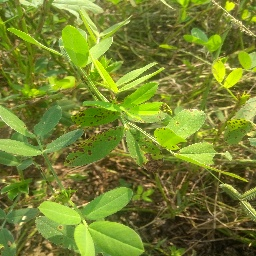GroundNut_Leaf: (64, 124, 122, 168), (89, 223, 144, 256), (84, 187, 136, 220), (157, 108, 207, 141), (60, 23, 89, 69), (38, 200, 81, 224), (1, 104, 32, 137), (211, 58, 243, 89), (177, 143, 220, 166), (33, 106, 64, 136), (124, 81, 160, 106), (185, 27, 222, 51), (69, 110, 121, 126), (224, 119, 254, 146), (1, 138, 41, 158)
